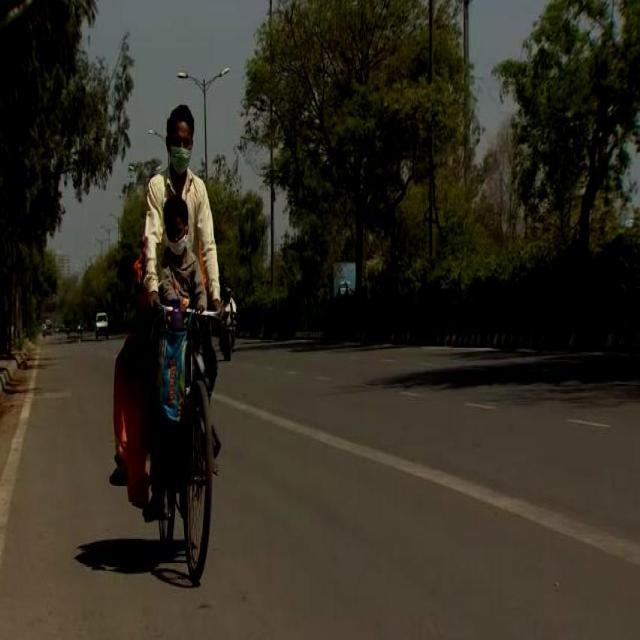hairnet: (165, 198, 188, 255)
